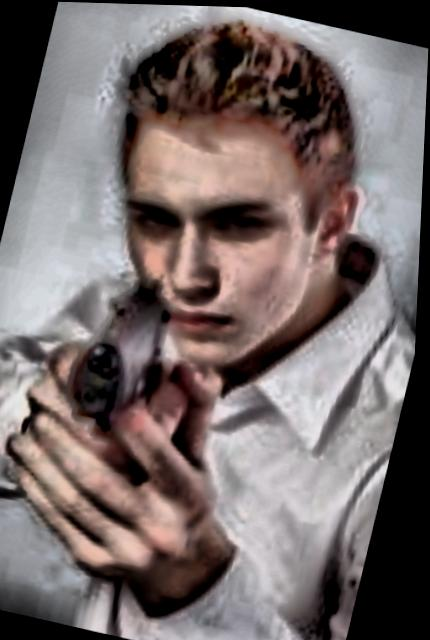pistol: (49, 250, 188, 465)
